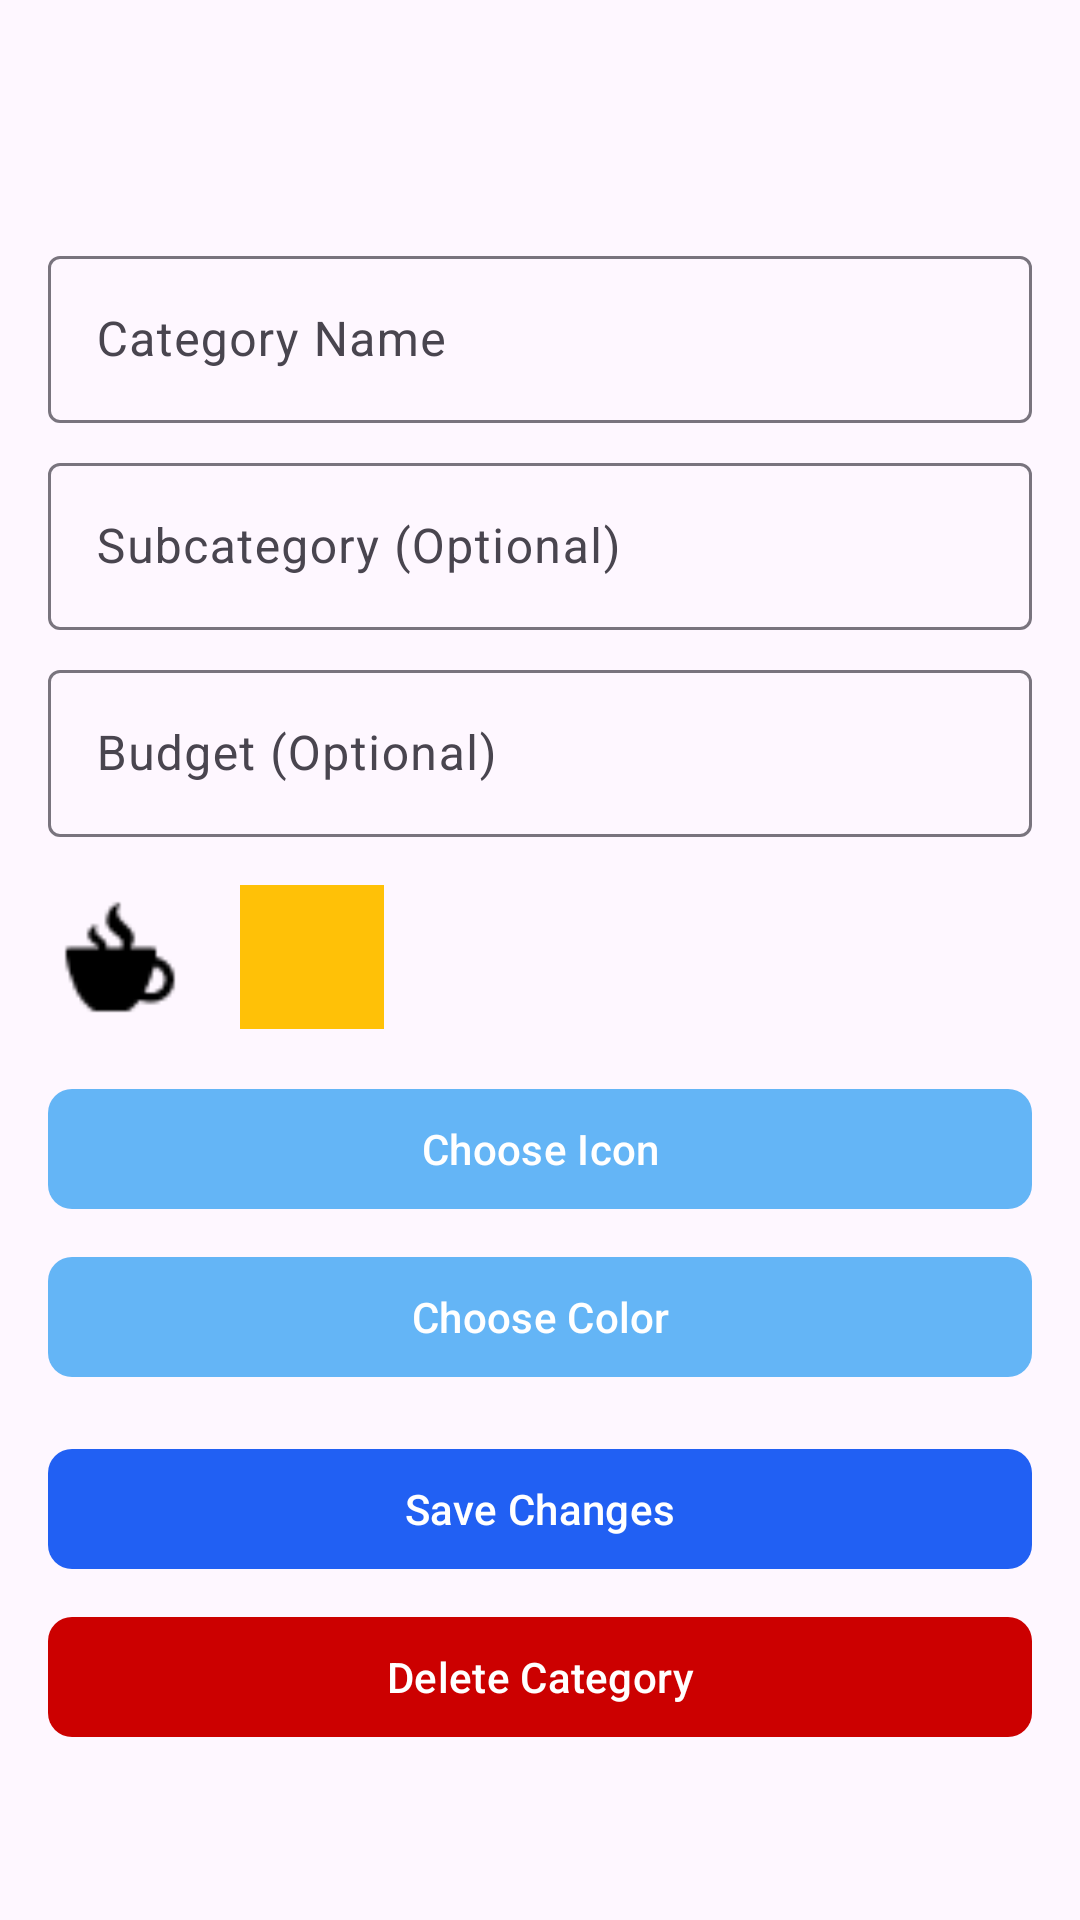

Where to tap for icons on this 1080 x 1920 app screen, as [x,y]:
food: [120,957]
